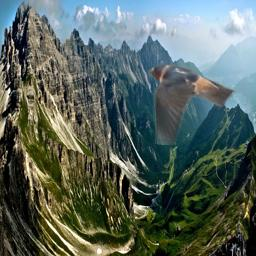Swallow: (148, 61, 236, 145)
